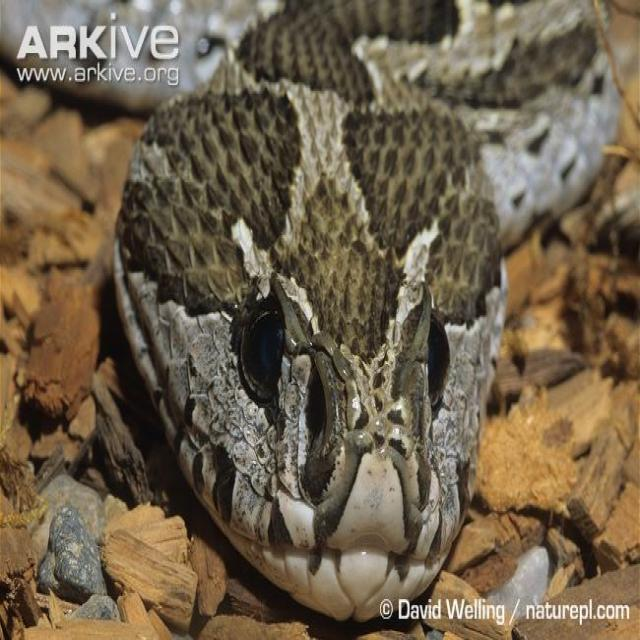Snake: (109, 0, 626, 629)
